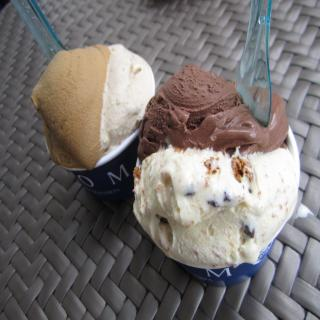Ice cream: (132, 64, 300, 270), (29, 51, 154, 169)
